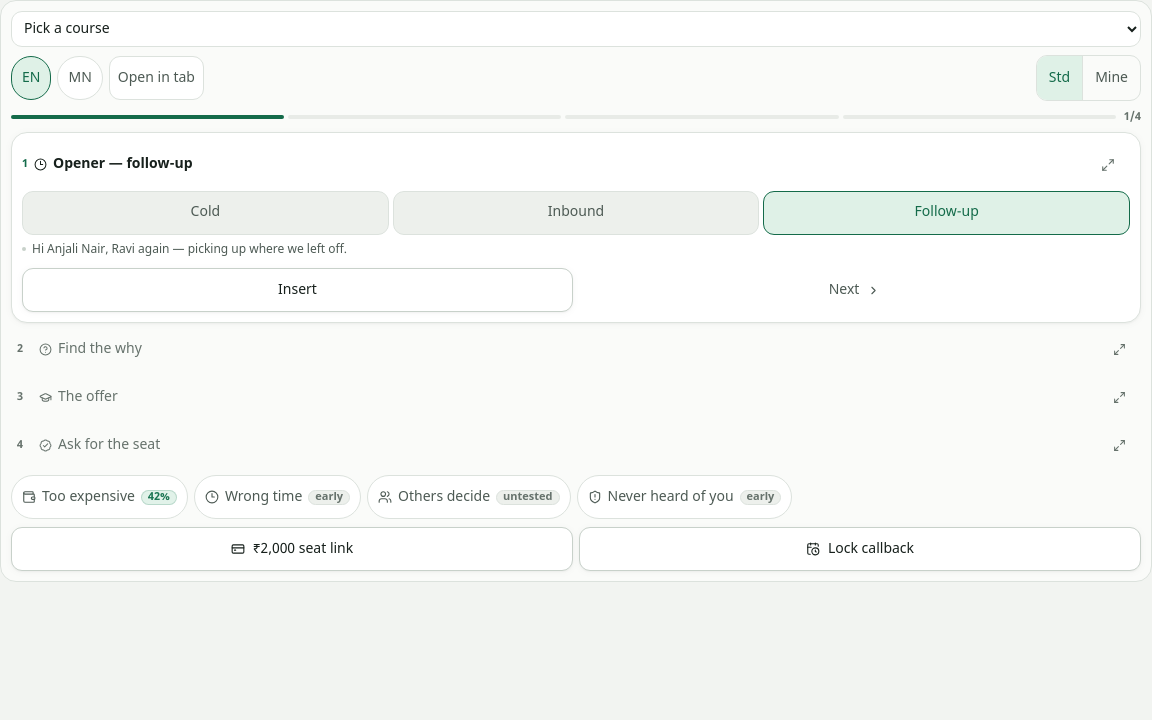
Test: CallHud › falls back to the default body with a language badge
Check: the heading "Opener — follow-up" is shown, box [53,154,193,174]
Click the button "MN".
click(80, 78)  # box [57,56,103,100]
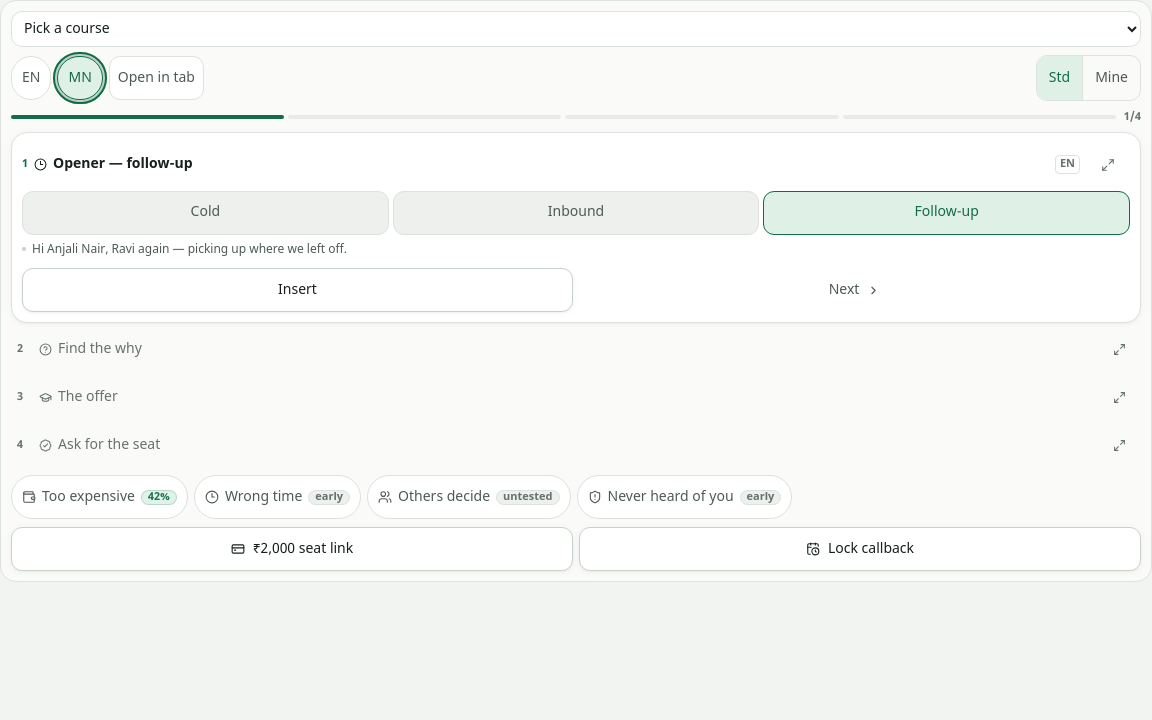
Check: the text "Hi Anjali Nair, Ravi again — picking up where we left off." is shown, box [32,240,347,260]
Check: the text with test id "lang-fallback" reads "EN", box [1060,157,1075,171]
